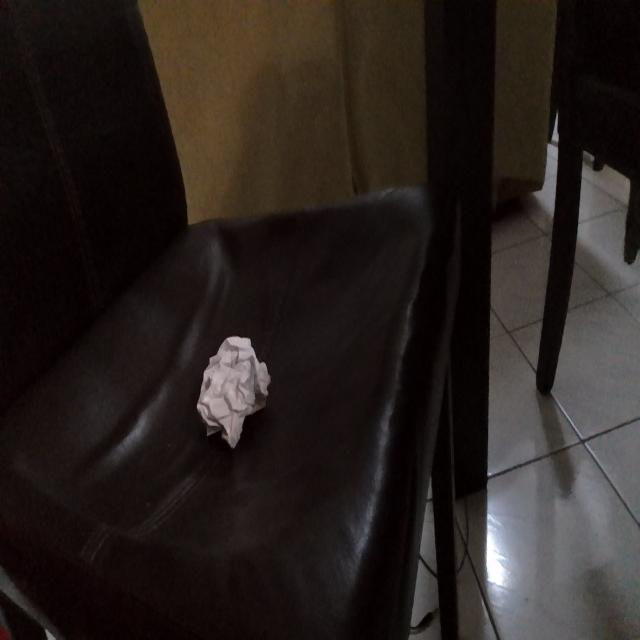crumpled_paper: (195, 328, 274, 449)
